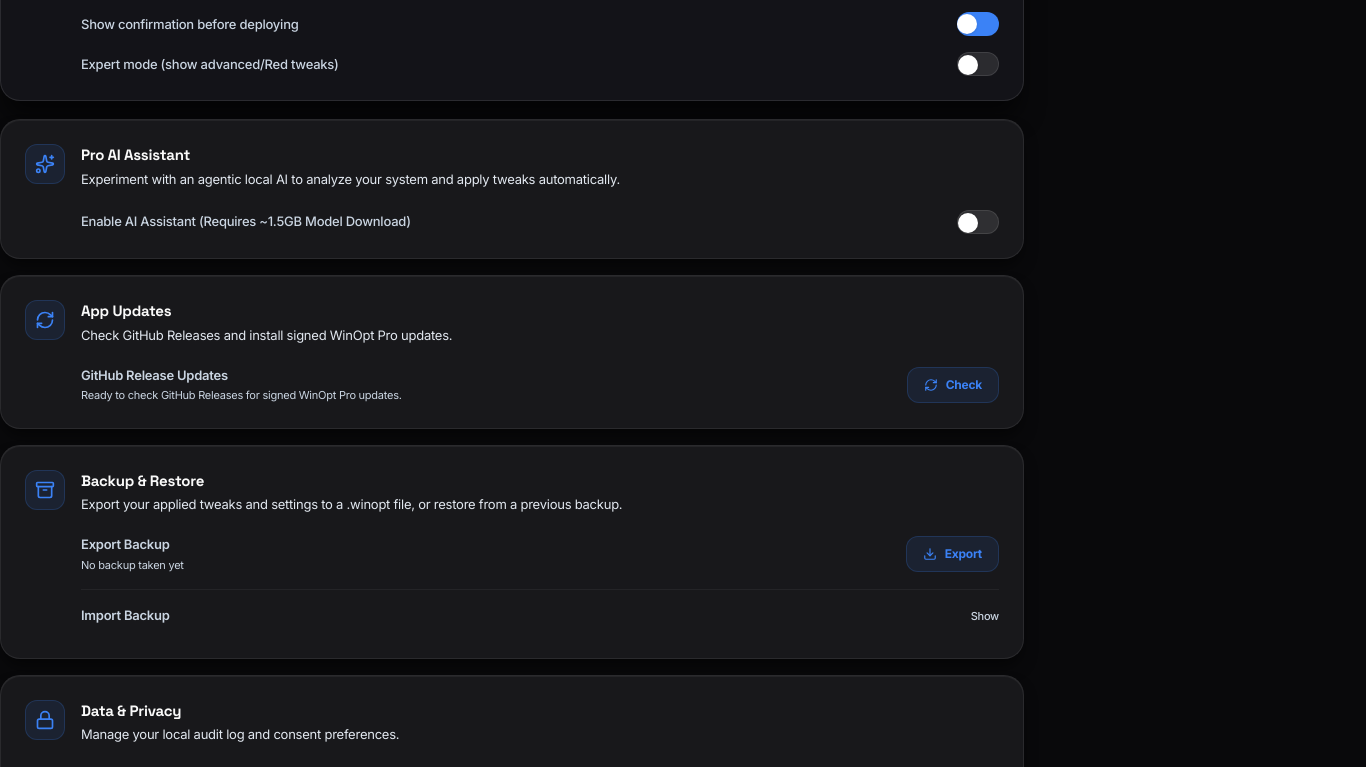
Test case: SettingsPage › checks GitHub Releases for app updates
(page scrolled)
Click the button "Check": [953, 385] box [907, 367, 999, 403]
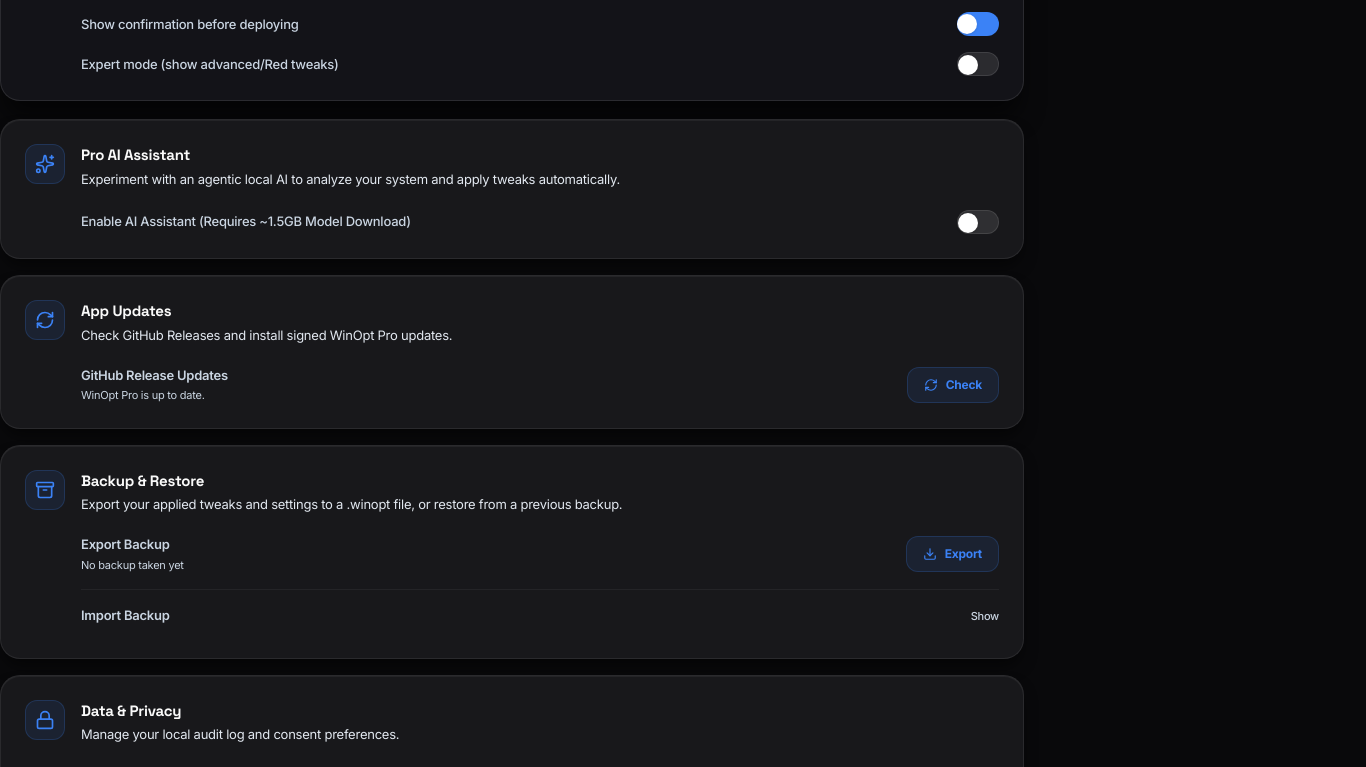
Expected: the text "WinOpt Pro is up to date." is shown, [81, 388, 205, 402]
